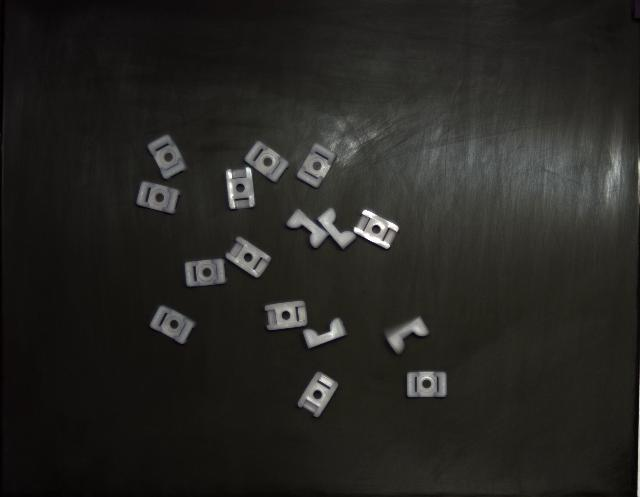first_side: (245, 141, 289, 182), (148, 135, 188, 180), (150, 306, 196, 345), (296, 144, 336, 188), (136, 181, 181, 214), (185, 259, 226, 288), (406, 371, 448, 398)
second_side: (226, 238, 271, 279), (298, 372, 338, 418), (354, 210, 399, 249), (265, 301, 308, 331), (226, 168, 255, 210)
third_side: (286, 210, 329, 249), (318, 209, 356, 250), (302, 318, 346, 349)
